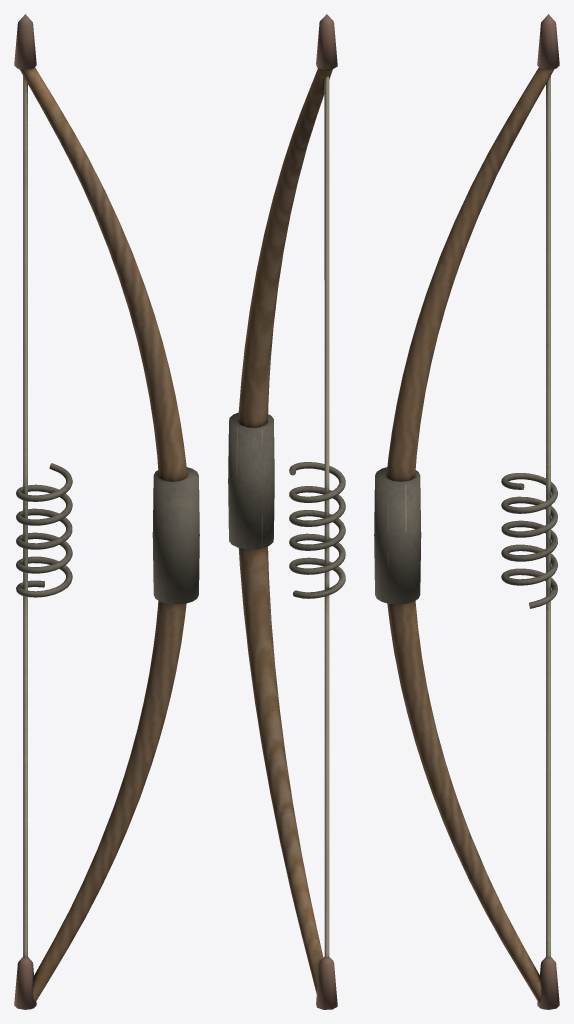
The model's file is arma_arco_curto_enferrujada.glb.
The picture shows the model from 3 angles, left to right: view 1: azimuth 90°, elevation 25°; view 2: azimuth 210°, elevation 25°; view 3: azimuth 270°, elevation 25°; orthographic projection.
Visible parts, largest first — view 1: arma_arco_curto_enferrujada; view 2: arma_arco_curto_enferrujada; view 3: arma_arco_curto_enferrujada.
Part boxes in pixels (x1=…): arma_arco_curto_enferrujada: x1=14, y1=14, x2=199, y2=1009; arma_arco_curto_enferrujada: x1=228, y1=14, x2=345, y2=1009; arma_arco_curto_enferrujada: x1=374, y1=14, x2=559, y2=1009.
Size of the model in its own units: 0.0606 by 1.16 by 0.197.
Materials: 1 (1 with a texture image).
